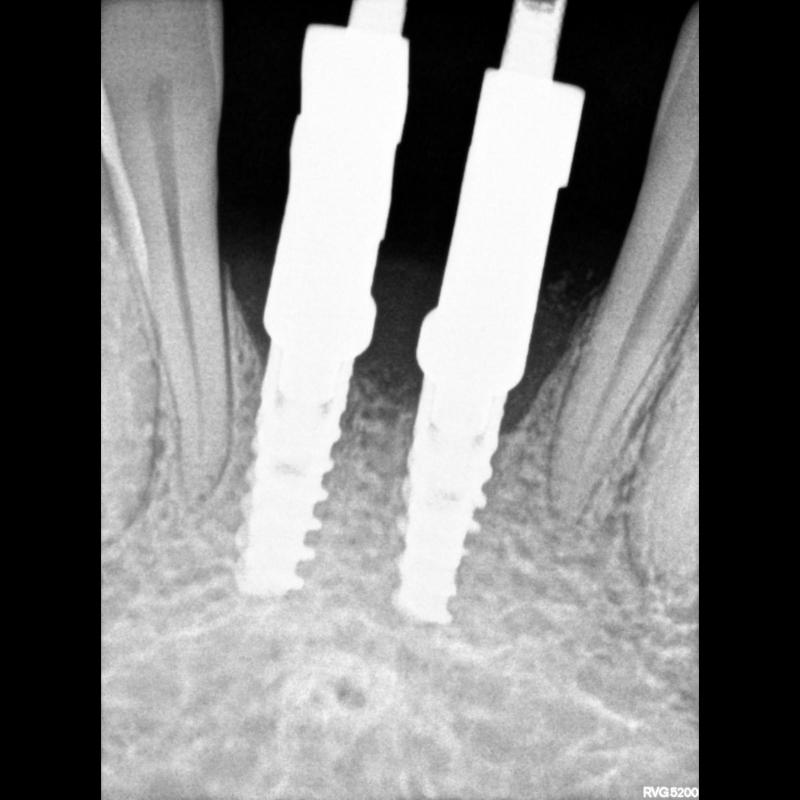ADIN: (230, 351, 349, 601), (392, 382, 506, 626)
